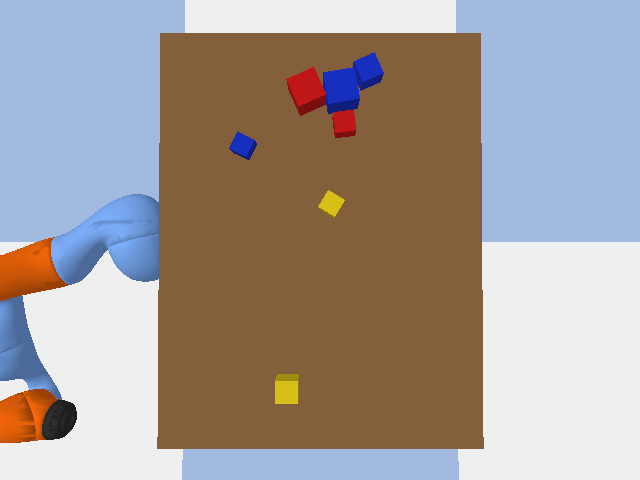blue_obj: (323, 67, 359, 113), (353, 52, 383, 90), (229, 131, 256, 159)
red_obj: (286, 67, 325, 115), (332, 109, 355, 137)
yellow_obj: (318, 190, 344, 217), (275, 374, 298, 403)
